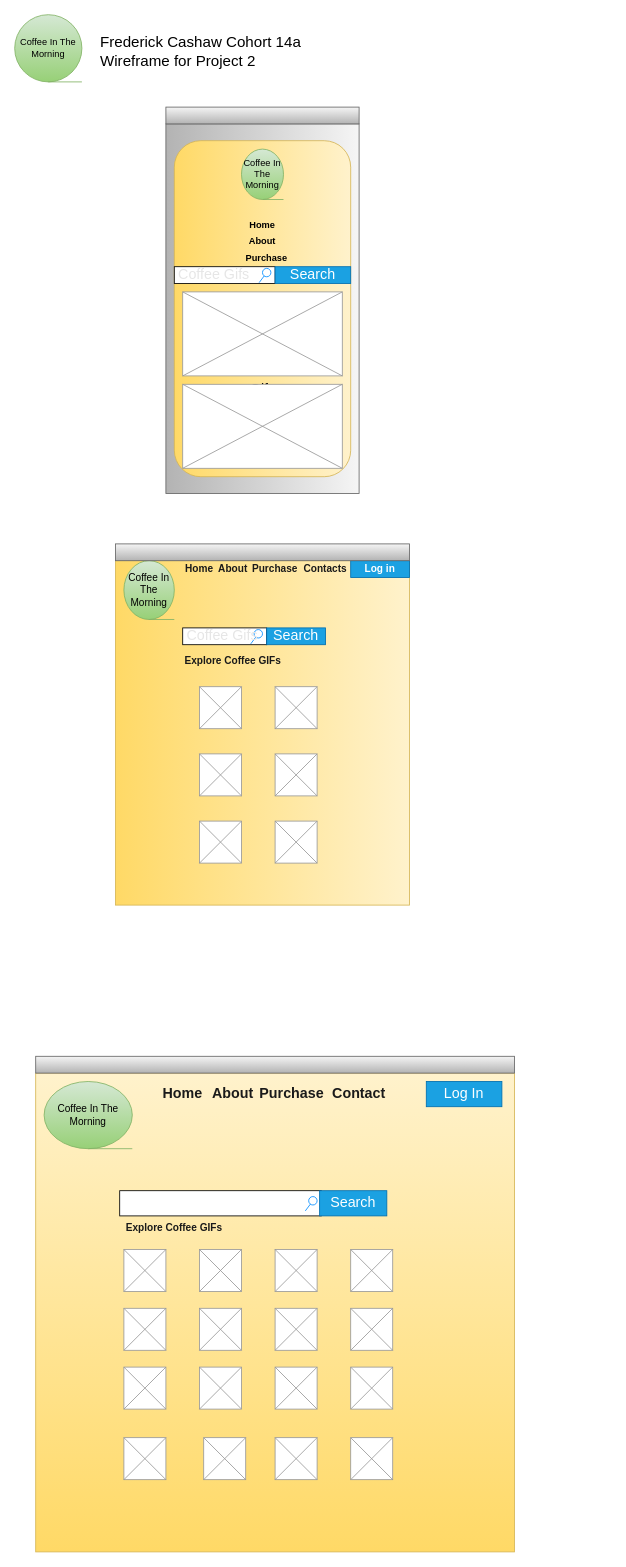
This 626x1567 diagram has some shape labels left out. The shapes that lost their labels are listed below. From the top down, each one's centre as x and y in pixels, then its label:
[262,115]: Cell Phone Screen
[262,552]: Tablet Screen
[274,1064]: Full Monitoring Screen
[220,1203]: Search Coffee
